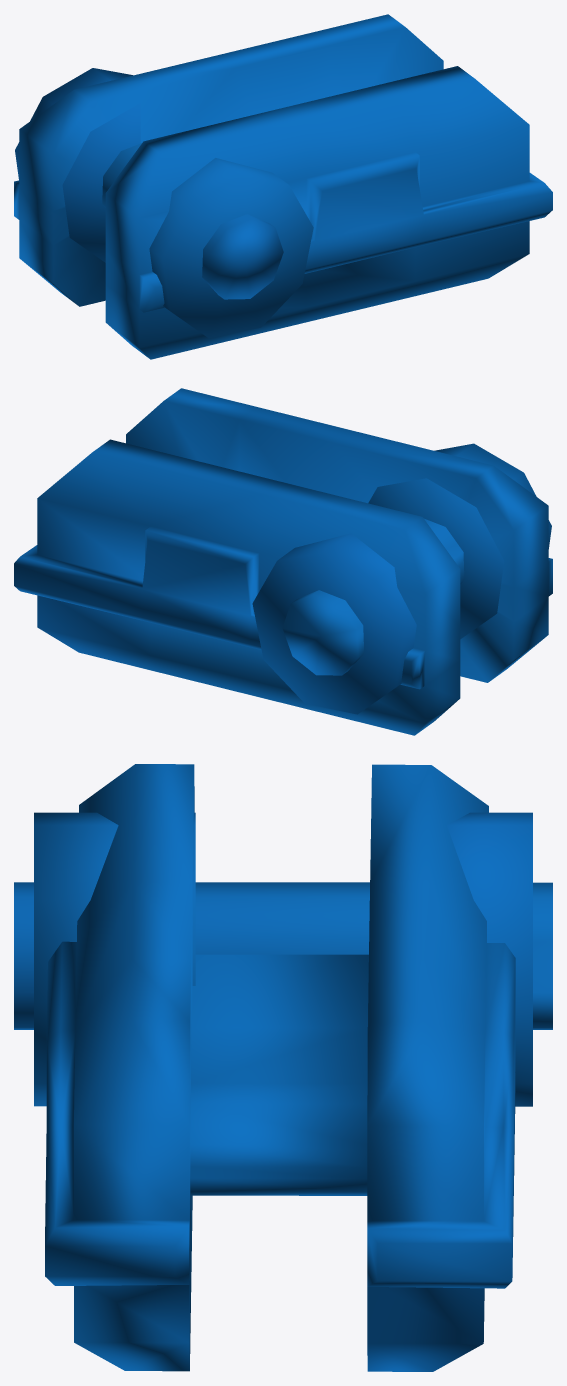
File: ankle.dae
3 renders of one model, top to bottom at view 1: azimuth 30°, elevation 25°; view 2: azimuth 150°, elevation 25°; view 3: azimuth 270°, elevation 25°, orthographic. The views are drawn at different scales.
Parts seen in each view (by area): view 1: test002; view 2: test002; view 3: test002.
Boxes of the visible parts, box(x1,y1,x2,y2) form: test002: box(14, 14, 552, 359); test002: box(14, 388, 552, 735); test002: box(14, 764, 552, 1371).
Size of the model in its own units: 0.2976 by 0.2033 by 0.1414.
1 material, 1 textured.
